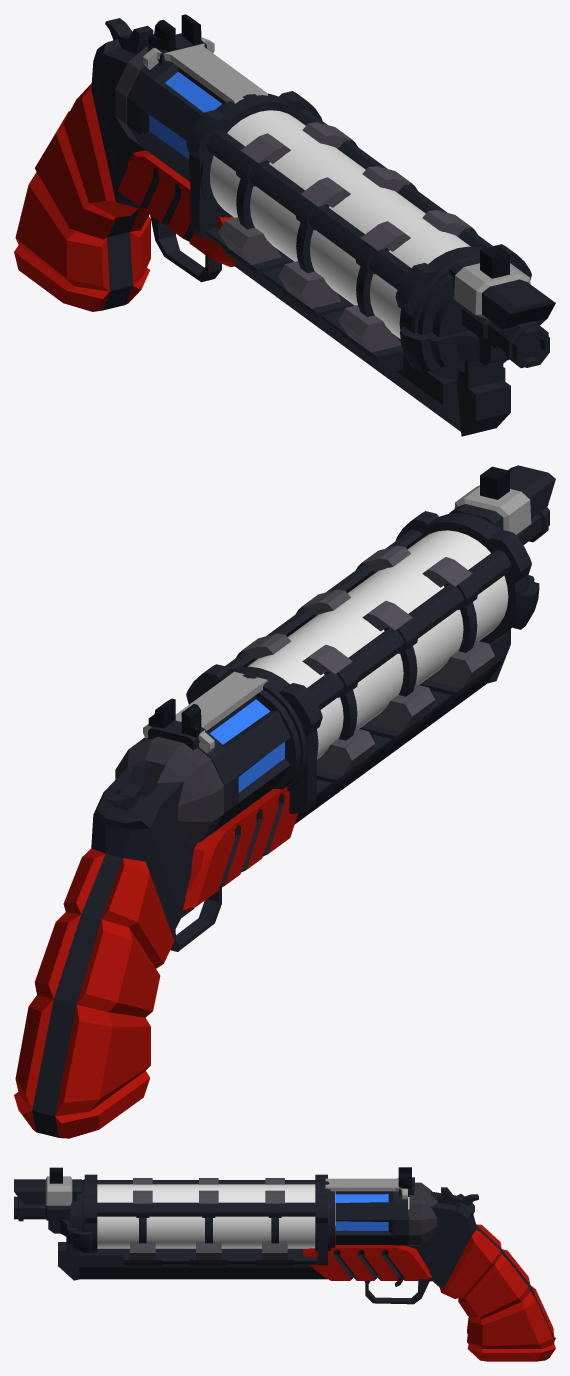
Rendered from revolverWithHeatChamber.fbx.
3 views of the same model, one above another, from view 1: azimuth 30°, elevation 25°; view 2: azimuth 150°, elevation 25°; view 3: azimuth 270°, elevation 25° (orthographic). The views are drawn at different scales.
Parts seen in each view (by area): view 1: RevolverWithOverhheatChamber, Cylinder.003, Cylinder.003_Piece_Piece, Cube.001_Piece.001, SM_Wep_Revolver_01.006_Piece, Cube, SM_Wep_Revolver_Cylinder_01.003, Cylinder.003_Piece.001_Piece, Cylinder.003_Piece_Piece_Piece_Piece, SM_Wep_Launcher_01_Piece, Cylinder.003_Piece_Piece_Piece, Cylinder.003_Piece (+4 smaller); view 2: RevolverWithOverhheatChamber, Cylinder.003, Cylinder.003_Piece_Piece, Cube.001_Piece.001, SM_Wep_Revolver_Cylinder_01.003, SM_Wep_Launcher_01_Piece, Cylinder.003_Piece, Cylinder.003_Piece_Piece_Piece_Piece, SM_Wep_Revolver_01.006_Piece, Cylinder.003_Piece_Piece_Piece, Cube, Cube.001_Piece.001_Piece (+4 smaller); view 3: RevolverWithOverhheatChamber, Cylinder.003, Cube, Cylinder.003_Piece_Piece, SM_Wep_Revolver_Cylinder_01.003, SM_Wep_Launcher_01_Piece, Cube.001_Piece.001, SM_Wep_Revolver_01.006_Piece, Cylinder.003_Piece.001_Piece, Cylinder.003_Piece, Cylinder.003_Piece_Piece_Piece_Piece, Cylinder.003_Piece_Piece_Piece (+3 smaller).
Boxes of the visible parts, box(x1,y1,x2,y2) form: RevolverWithOverhheatChamber: box(14, 37, 267, 311); Cylinder.003: box(209, 110, 470, 338); Cylinder.003_Piece_Piece: box(186, 91, 531, 316); Cube.001_Piece.001: box(205, 217, 403, 371); SM_Wep_Revolver_01.006_Piece: box(449, 257, 555, 368); Cube: box(234, 260, 510, 436); SM_Wep_Revolver_Cylinder_01.003: box(126, 61, 225, 181); Cylinder.003_Piece.001_Piece: box(400, 255, 509, 379); Cylinder.003_Piece_Piece_Piece_Piece: box(241, 122, 472, 251); SM_Wep_Launcher_01_Piece: box(117, 150, 234, 267); Cylinder.003_Piece_Piece_Piece: box(235, 140, 477, 316); Cylinder.003_Piece: box(188, 93, 483, 331); RevolverWithOverhheatChamber: box(14, 671, 267, 1138); Cylinder.003: box(247, 530, 508, 759); Cylinder.003_Piece_Piece: box(186, 511, 531, 736); Cube.001_Piece.001: box(289, 640, 494, 814); SM_Wep_Revolver_Cylinder_01.003: box(140, 695, 290, 833); SM_Wep_Launcher_01_Piece: box(182, 786, 298, 911); Cylinder.003_Piece: box(196, 513, 527, 790); Cylinder.003_Piece_Piece_Piece_Piece: box(241, 545, 472, 675); SM_Wep_Revolver_01.006_Piece: box(449, 465, 555, 545); Cylinder.003_Piece_Piece_Piece: box(236, 563, 478, 740); Cube: box(294, 629, 510, 824); Cube.001_Piece.001_Piece: box(289, 729, 316, 812); RevolverWithOverhheatChamber: box(325, 1178, 555, 1361); Cylinder.003: box(97, 1184, 315, 1248); Cube: box(58, 1237, 327, 1280); Cylinder.003_Piece_Piece: box(84, 1174, 327, 1223); SM_Wep_Revolver_Cylinder_01.003: box(335, 1191, 408, 1245); SM_Wep_Launcher_01_Piece: box(303, 1226, 432, 1280); Cube.001_Piece.001: box(123, 1241, 317, 1266); SM_Wep_Revolver_01.006_Piece: box(14, 1176, 81, 1221); Cylinder.003_Piece.001_Piece: box(48, 1179, 92, 1253); Cylinder.003_Piece: box(84, 1179, 335, 1253); Cylinder.003_Piece_Piece_Piece_Piece: box(133, 1178, 284, 1203); Cylinder.003_Piece_Piece_Piece: box(136, 1203, 281, 1243).
Bounding box in the file's own units: 0.103 × 0.6556 × 0.2479.
